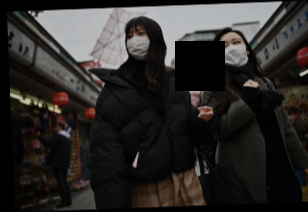with_mask: (216, 35, 248, 66), (125, 26, 151, 59)
